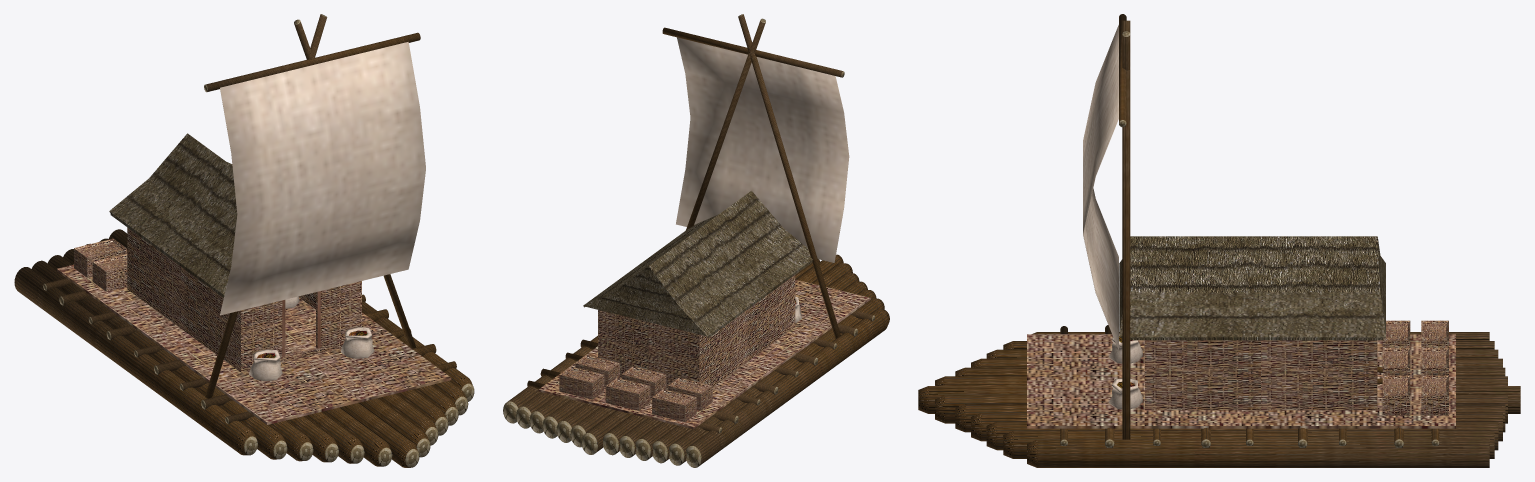
File: inca_balsa_guerra.dae
3 renders of one model, left to right at view 1: azimuth 30°, elevation 25°; view 2: azimuth 150°, elevation 25°; view 3: azimuth 270°, elevation 25°, orthographic. The views are drawn at different scales.
Visible parts, largest first — view 1: balsa_war; view 2: balsa_war; view 3: balsa_war.
Part boxes in pixels (x1,y1,x2,y2): balsa_war: (14, 14, 474, 467); balsa_war: (503, 14, 889, 467); balsa_war: (918, 14, 1520, 467).
Bounding box in the file's own units: 12.88 × 27.85 × 19.76.
